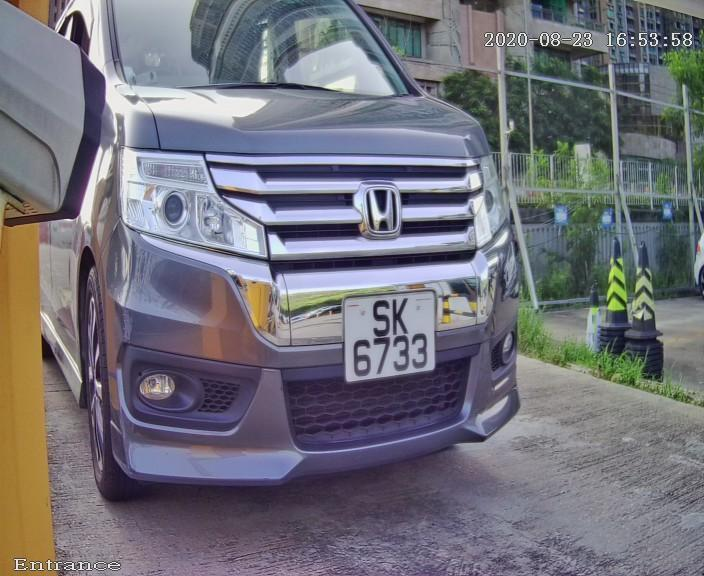Car: (13, 6, 563, 533)
License Plate: (334, 276, 444, 391)
